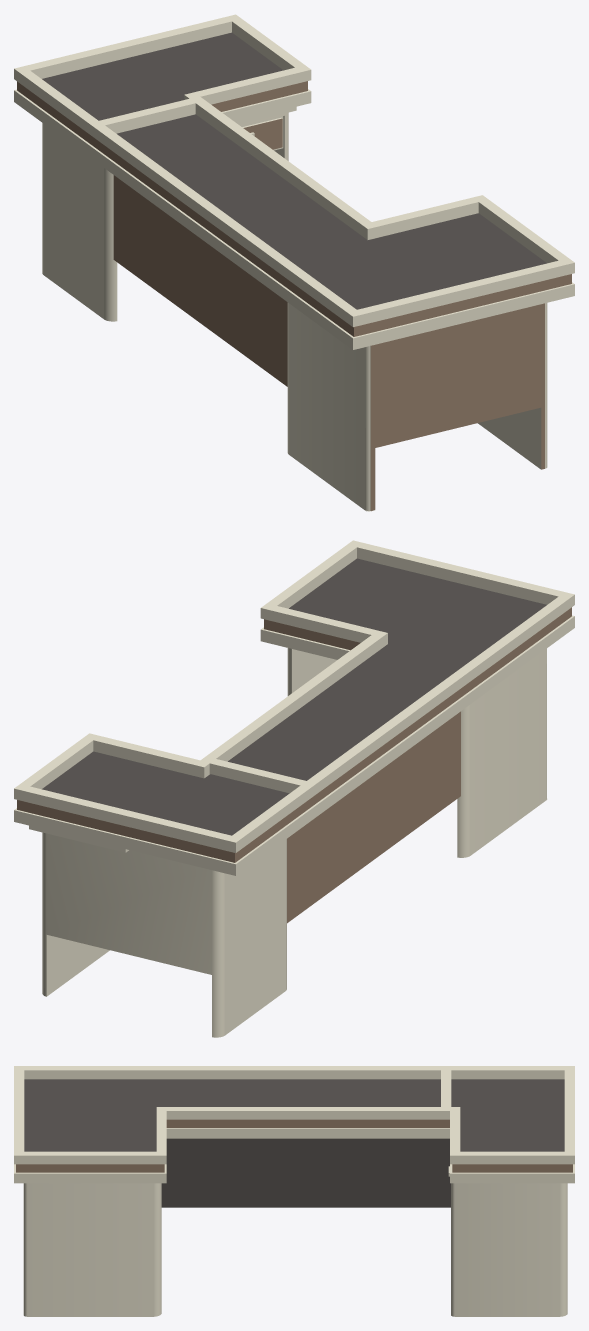
Rendered from CheckoutLane.fbx.
3 views of the same model, one above another, from view 1: azimuth 30°, elevation 25°; view 2: azimuth 150°, elevation 25°; view 3: azimuth 270°, elevation 25° (orthographic). The views are drawn at different scales.
Parts seen in each view (by area): view 1: Layer0_001; view 2: Layer0_001; view 3: Layer0_001.
Part boxes in pixels (x1,y1,x2,y2): Layer0_001: (14,14,574,511); Layer0_001: (14,540,574,1037); Layer0_001: (14,1066,574,1316).
Bounding box in the file's own units: 104 × 92.07 × 277.
